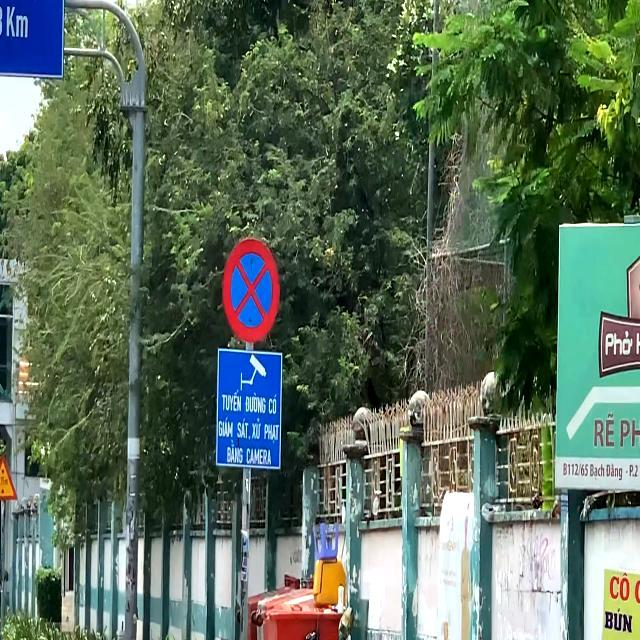Cam dung xe va do xe: (221, 236, 281, 346)
